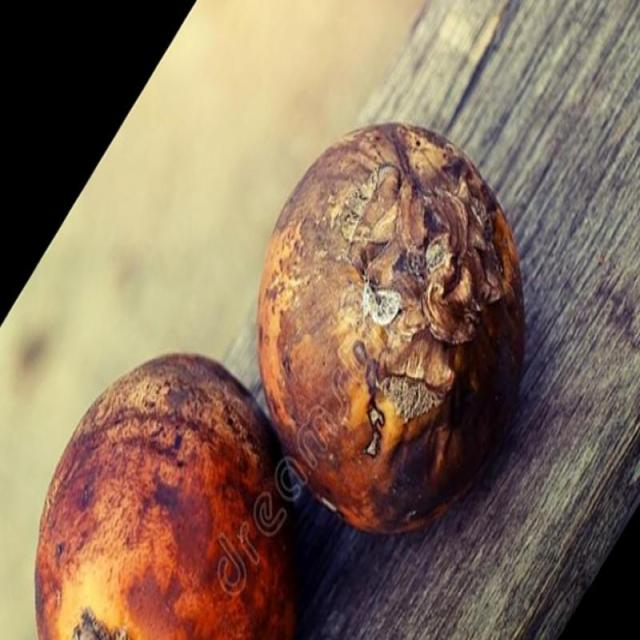damaged: (258, 122, 524, 531), (35, 354, 298, 639)
